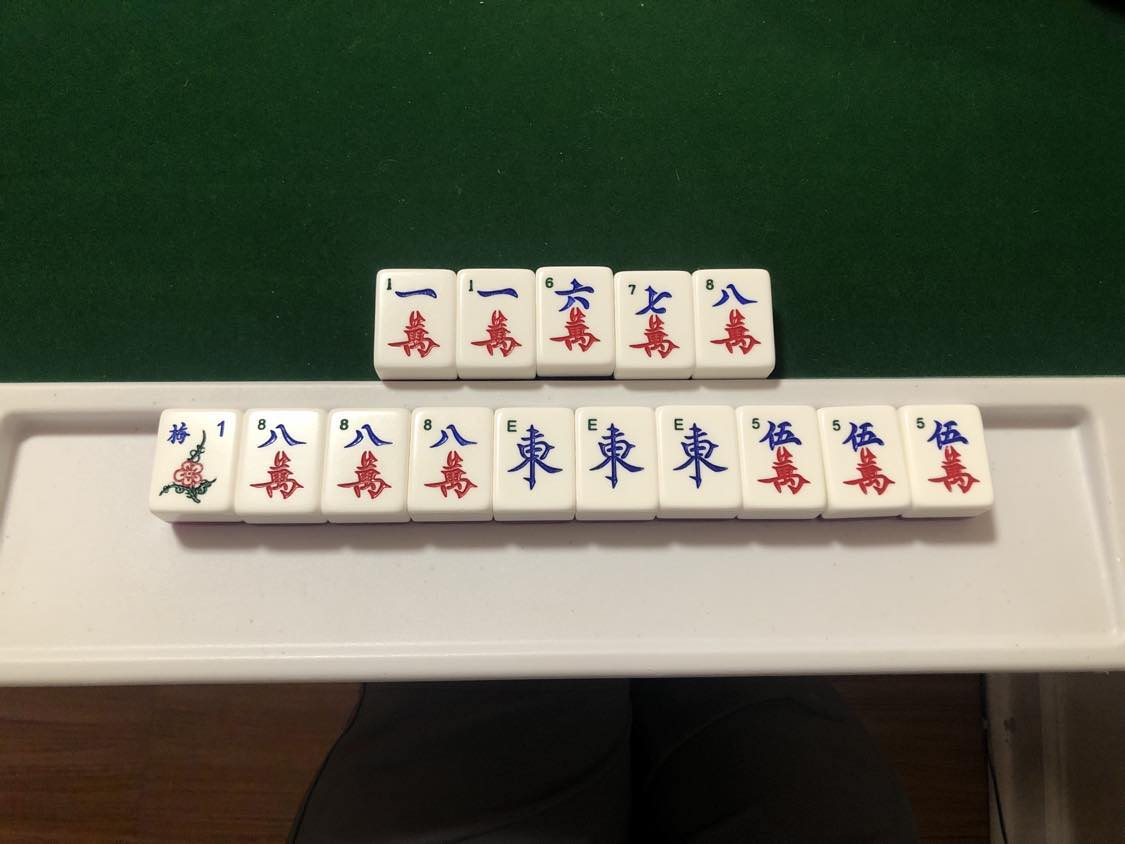character-eight: (330, 411, 402, 506), (697, 273, 767, 366), (247, 413, 314, 507), (416, 413, 484, 505)
character-five: (912, 409, 986, 502), (829, 412, 900, 503), (748, 412, 814, 502)
character-one: (381, 269, 454, 364), (463, 269, 534, 364)
character-seven: (620, 273, 687, 364)
character-six: (541, 272, 611, 362)
flower-blue_one: (160, 409, 231, 508)
honor-east_wind: (662, 410, 730, 499), (584, 411, 649, 499), (503, 413, 568, 500)
